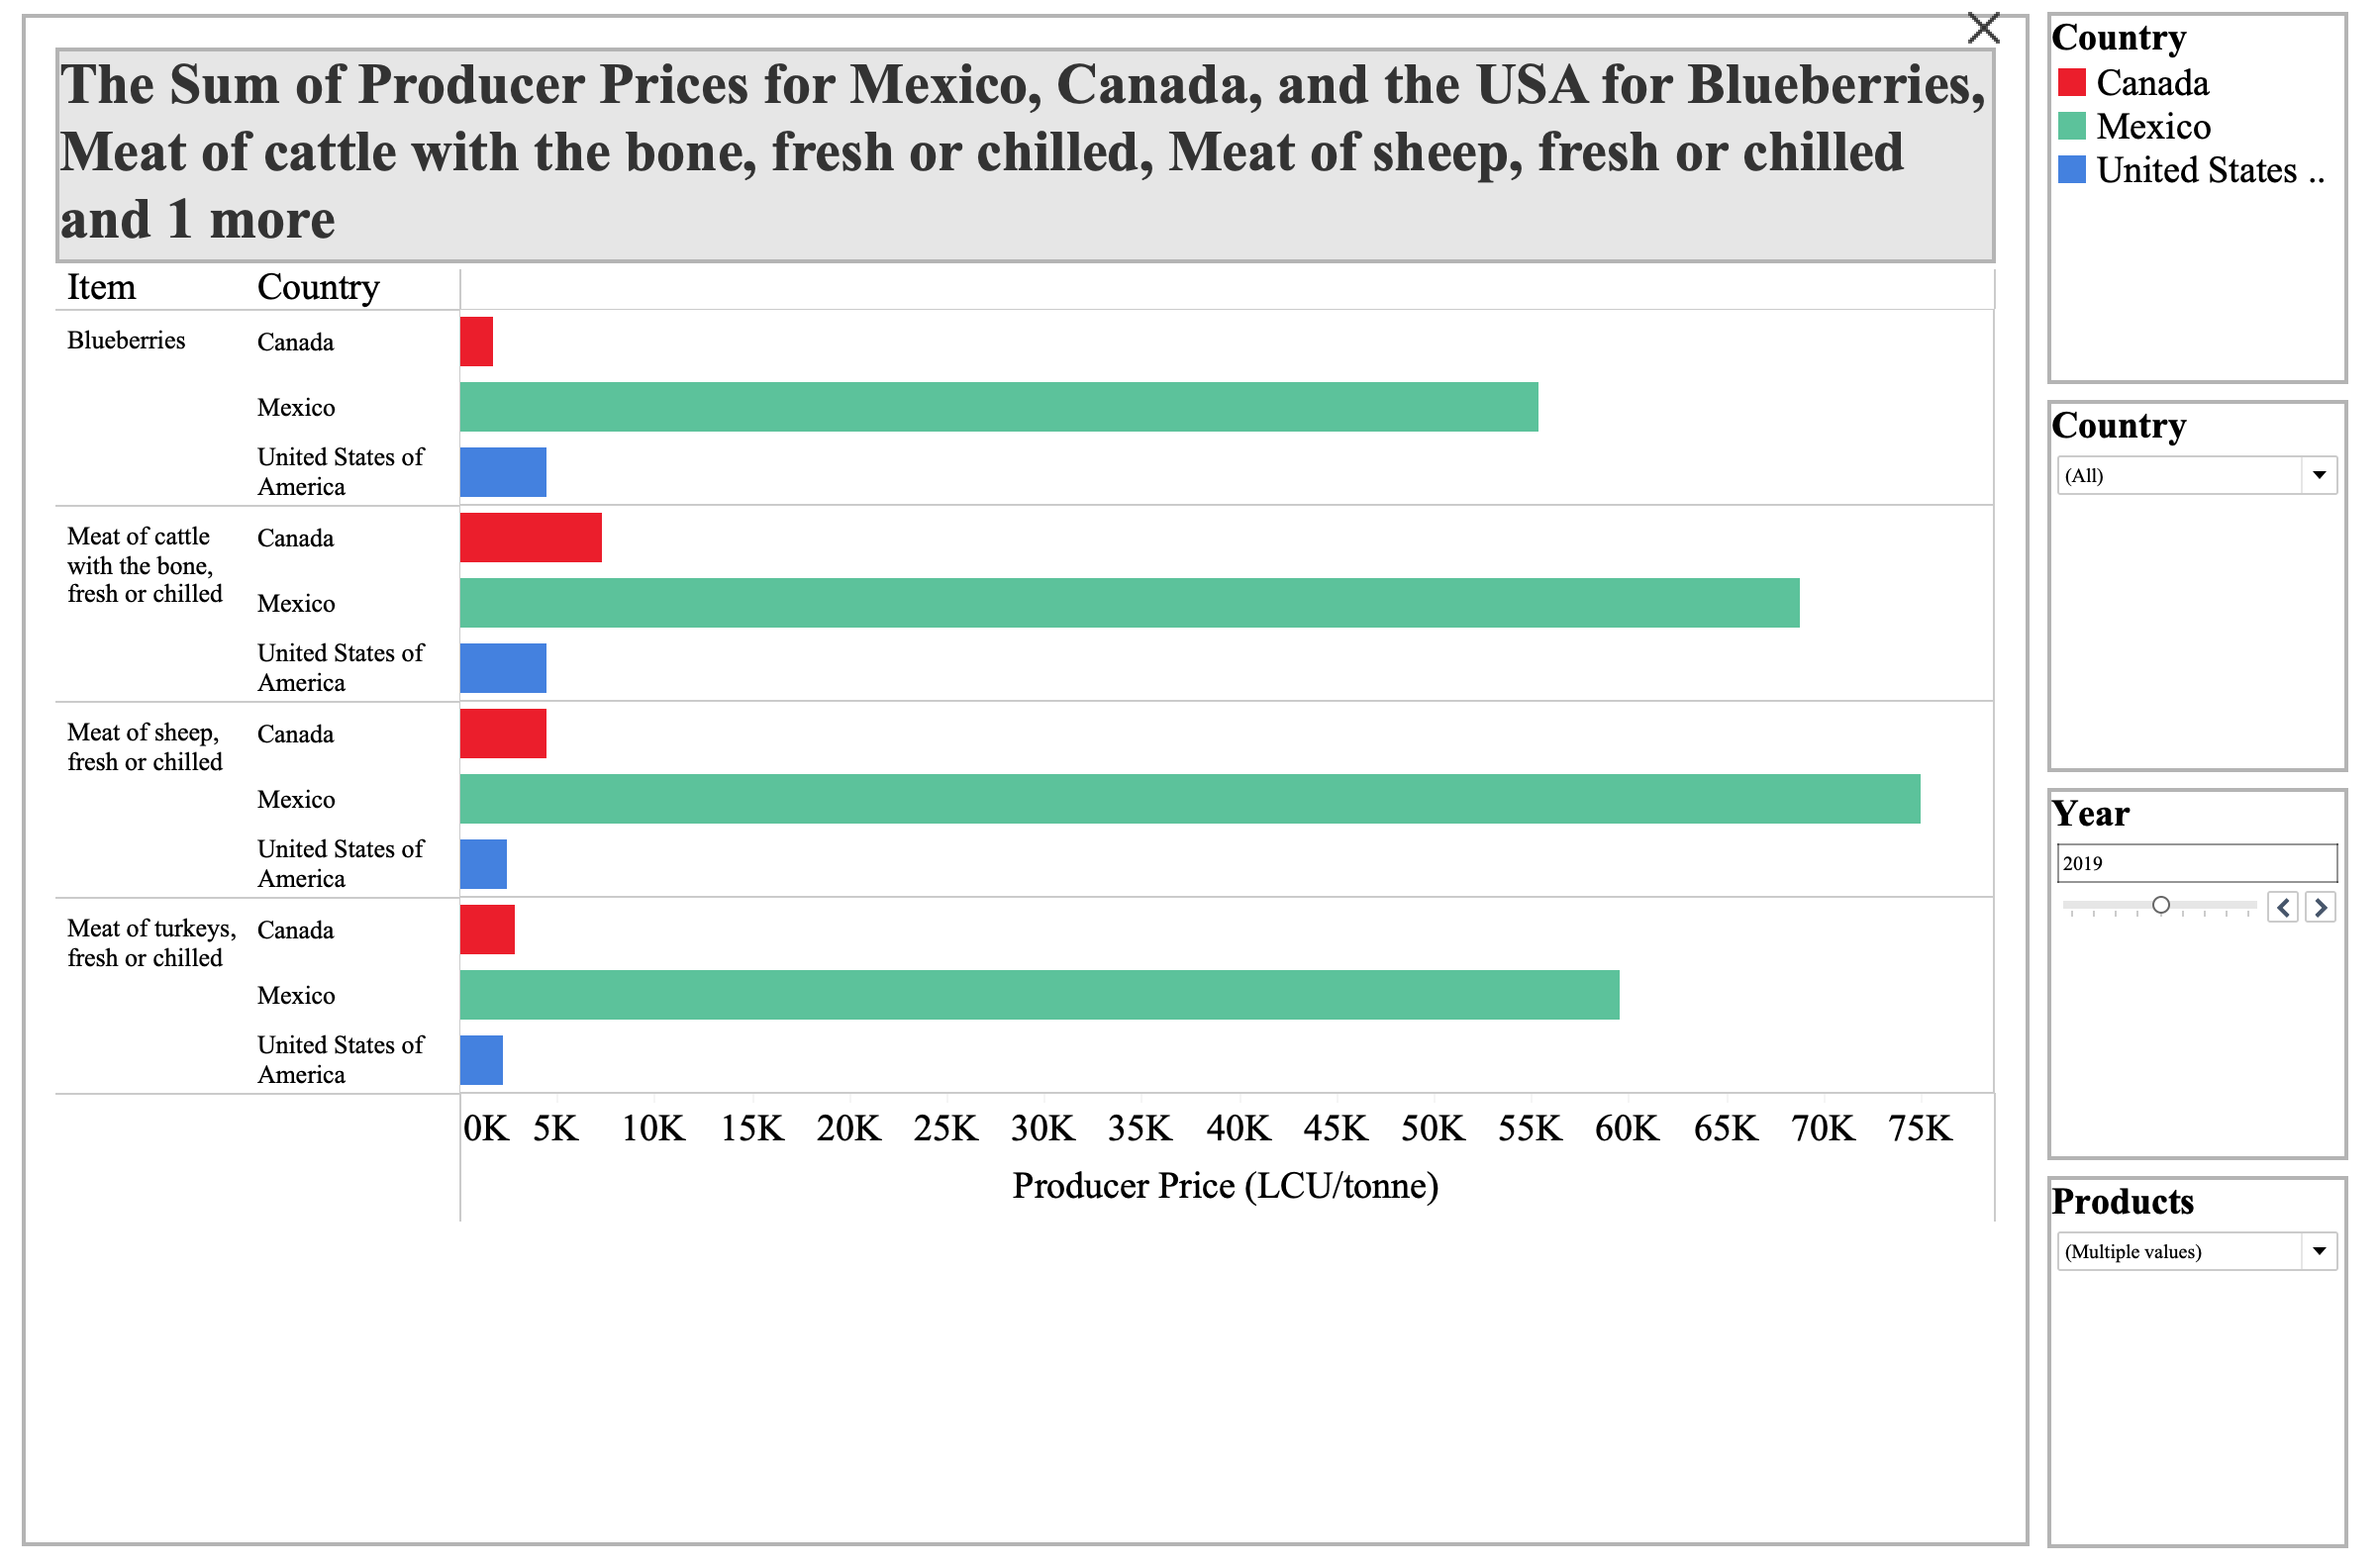

Layout of this report page (visuals, bound fields, positions):
{"tool":"tableau","page":{"name":"Dashboard 1","canvas":[1200,800],"ordinal":0},"visuals":[{"type":"worksheet","title":"yield","mark":"Bar","rows":["Value"],"cols":["Area","Year"],"box":[8,8,1024,784]},{"type":"filter","title":"yield","param":"[federated.0fg16zw1x0l6lv1b036w90icsjen].[none:area:nk]","box":[1032,8,160,108]},{"type":"filter","title":"yield","param":"[federated.0vianxe0iyll5417yi61e03wm1ru].[none:Item:nk]","box":[1032,116,160,590]},{"type":"legend","title":"yield","param":"[federated.0z5opef0cm133o11jrrv90n5jtt2].[none:Country:nk]","box":[1032,706,160,86]}]}

Visuals, with their boxes in screenshot pixels (x1, y1, x2, y2), scaled from the page's 1200x800 canvas onto the 2380x1568 screenshot:
"yield" worksheet (Bar marks): [16,16,2046,1552]
"yield" filter: [2046,16,2364,228]
"yield" filter: [2046,228,2364,1384]
"yield" legend: [2046,1384,2364,1552]
